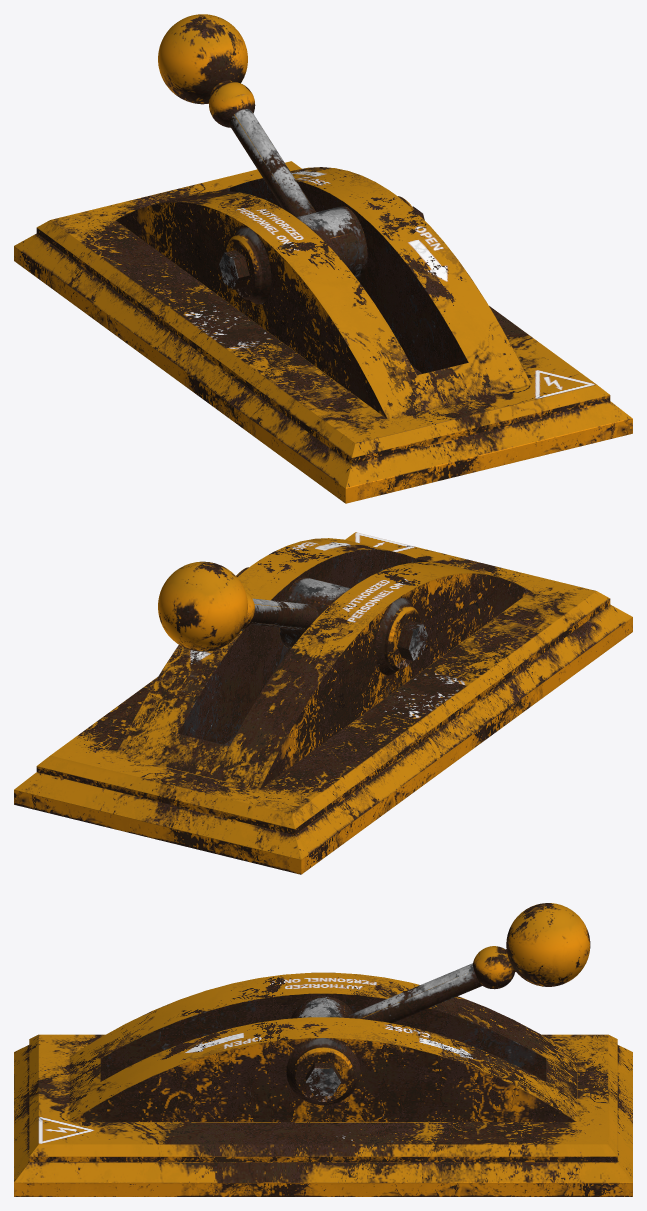
The model's file is Switch.fbx.
3 views of the same model, one above another, from view 1: azimuth 30°, elevation 25°; view 2: azimuth 150°, elevation 25°; view 3: azimuth 270°, elevation 25° (orthographic). The views are drawn at different scales.
Visible parts, largest first — view 1: Lever - l1-1; view 2: Lever - l1-1; view 3: Lever - l1-1.
Boxes of the visible parts, bbox=[...] form: Lever - l1-1: bbox=[14, 14, 632, 503]; Lever - l1-1: bbox=[14, 532, 632, 874]; Lever - l1-1: bbox=[14, 903, 632, 1196].
Bounding box in the file's own units: 12700 × 10169 × 25400.
